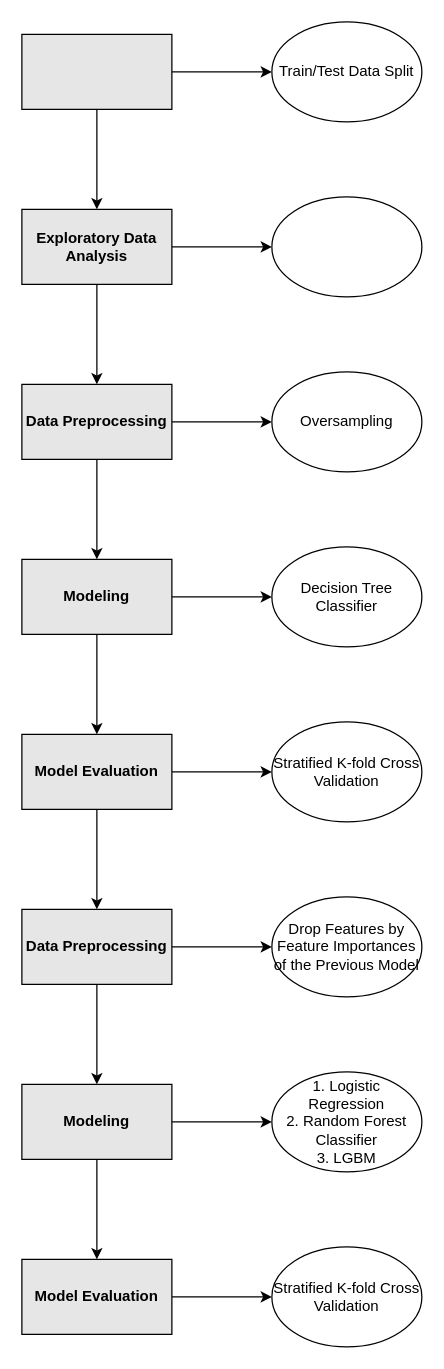
This 444x1369 diagram has some shape labels left out. The shapes that lost their labels are listed below. From the top down, each one's centre as x and y in pixels, then its label:
At pixel 96 71: "Data Collection".
At pixel 346 246: "1. Features 2. Correlations".
